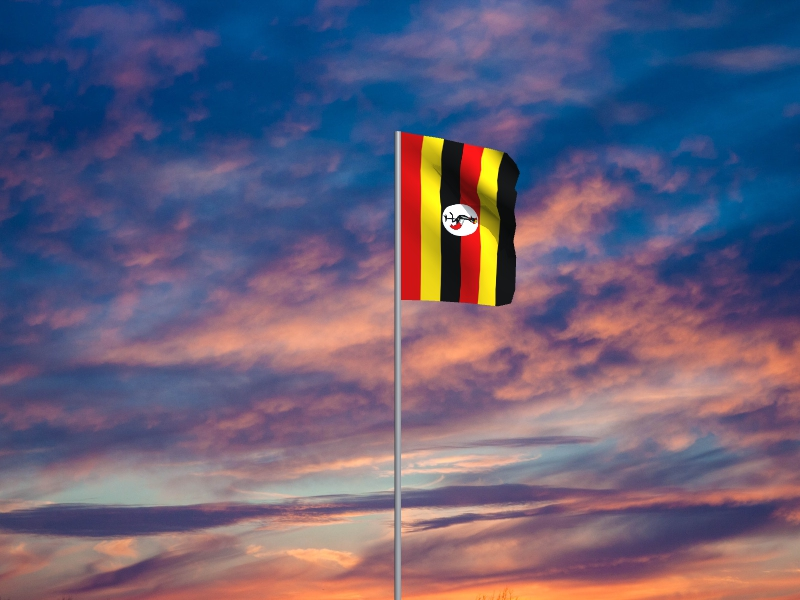ug: (401, 132, 521, 307)
